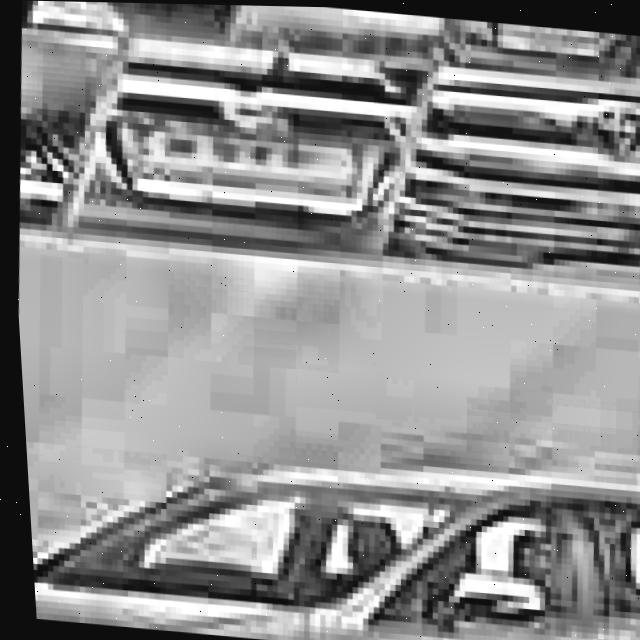light_vehicle: (20, 422, 640, 640)
